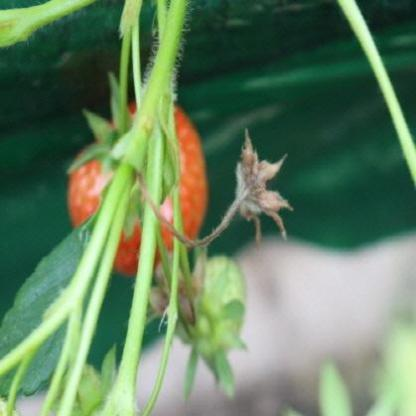Strawberry_Gray_Mold: (226, 127, 294, 250)
